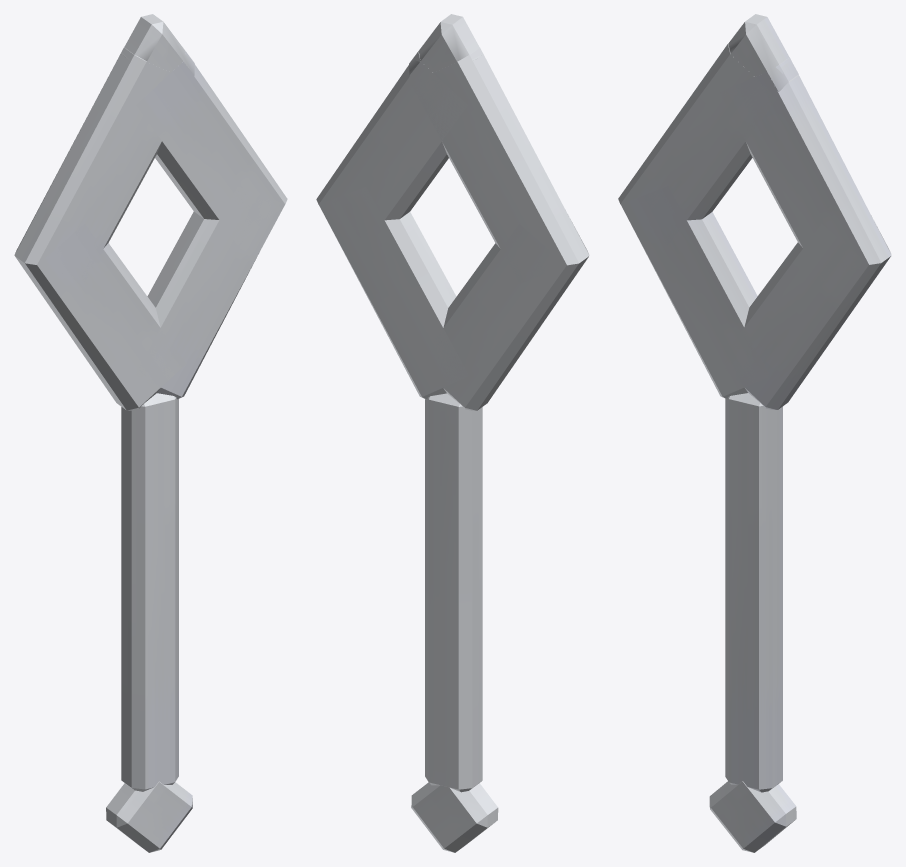
Rendered from Chave 1 - Prata.fbx.
3 views of the same model, side by side, from view 1: azimuth 30°, elevation 25°; view 2: azimuth 150°, elevation 25°; view 3: azimuth 330°, elevation 25° (orthographic).
Visible parts, largest first — view 1: Chave_1_Finalizada; view 2: Chave_1_Finalizada; view 3: Chave_1_Finalizada.
Boxes of the visible parts, box(x1,y1,x2,y2) form: Chave_1_Finalizada: box(14, 14, 287, 852); Chave_1_Finalizada: box(316, 14, 589, 852); Chave_1_Finalizada: box(618, 14, 891, 852).
Size of the model in its own units: 0.5977 by 1.8 by 0.0807.
Materials: 1 (1 with a texture image).
